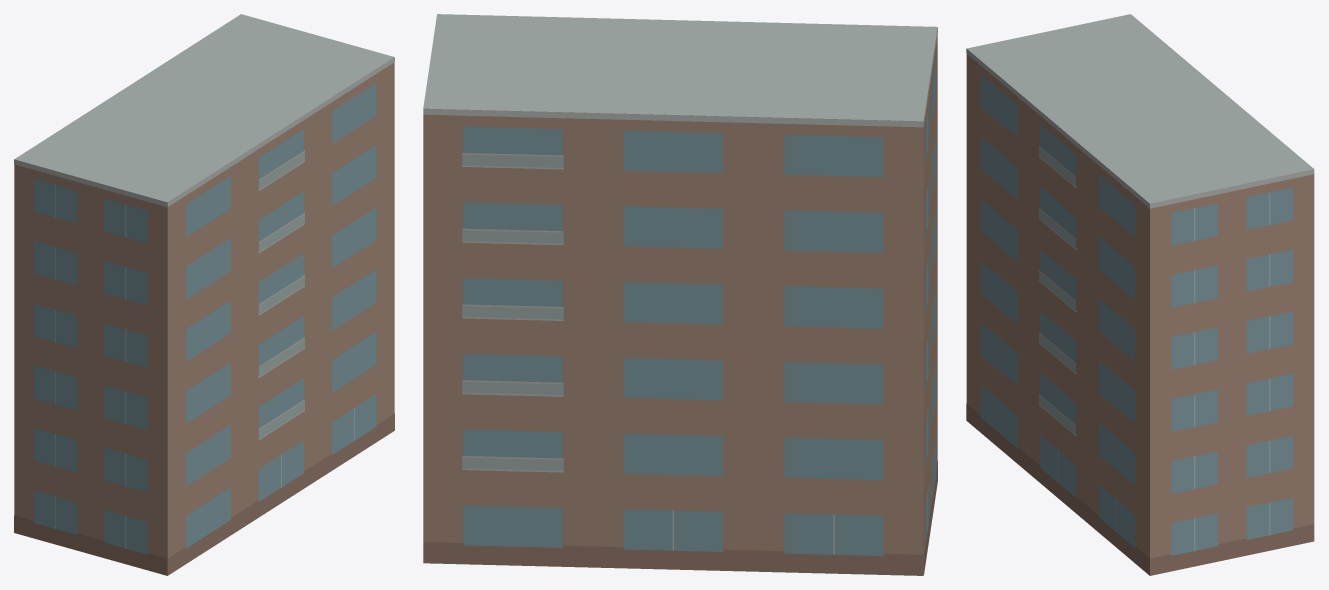
The model's file is survey-upis-32704034.glb.
3 views of the same model, side by side, from view 1: azimuth 30°, elevation 25°; view 2: azimuth 150°, elevation 25°; view 3: azimuth 270°, elevation 25° (orthographic). The views are drawn at different scales.
Visible parts, largest first — view 1: survey-upis-32704034.tmp; view 2: survey-upis-32704034.tmp; view 3: survey-upis-32704034.tmp.
Boxes of the visible parts, bbox=[...] form: survey-upis-32704034.tmp: bbox=[14, 14, 394, 575]; survey-upis-32704034.tmp: bbox=[423, 14, 937, 575]; survey-upis-32704034.tmp: bbox=[966, 14, 1314, 575].
Size of the model in its own units: 20.02 by 18.3 by 15.51.
